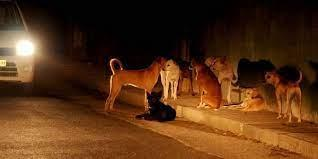normal_dogs: (109, 55, 164, 111), (264, 68, 308, 125), (187, 55, 222, 112), (208, 53, 240, 106), (139, 89, 176, 123), (160, 56, 181, 99), (238, 86, 268, 115)
